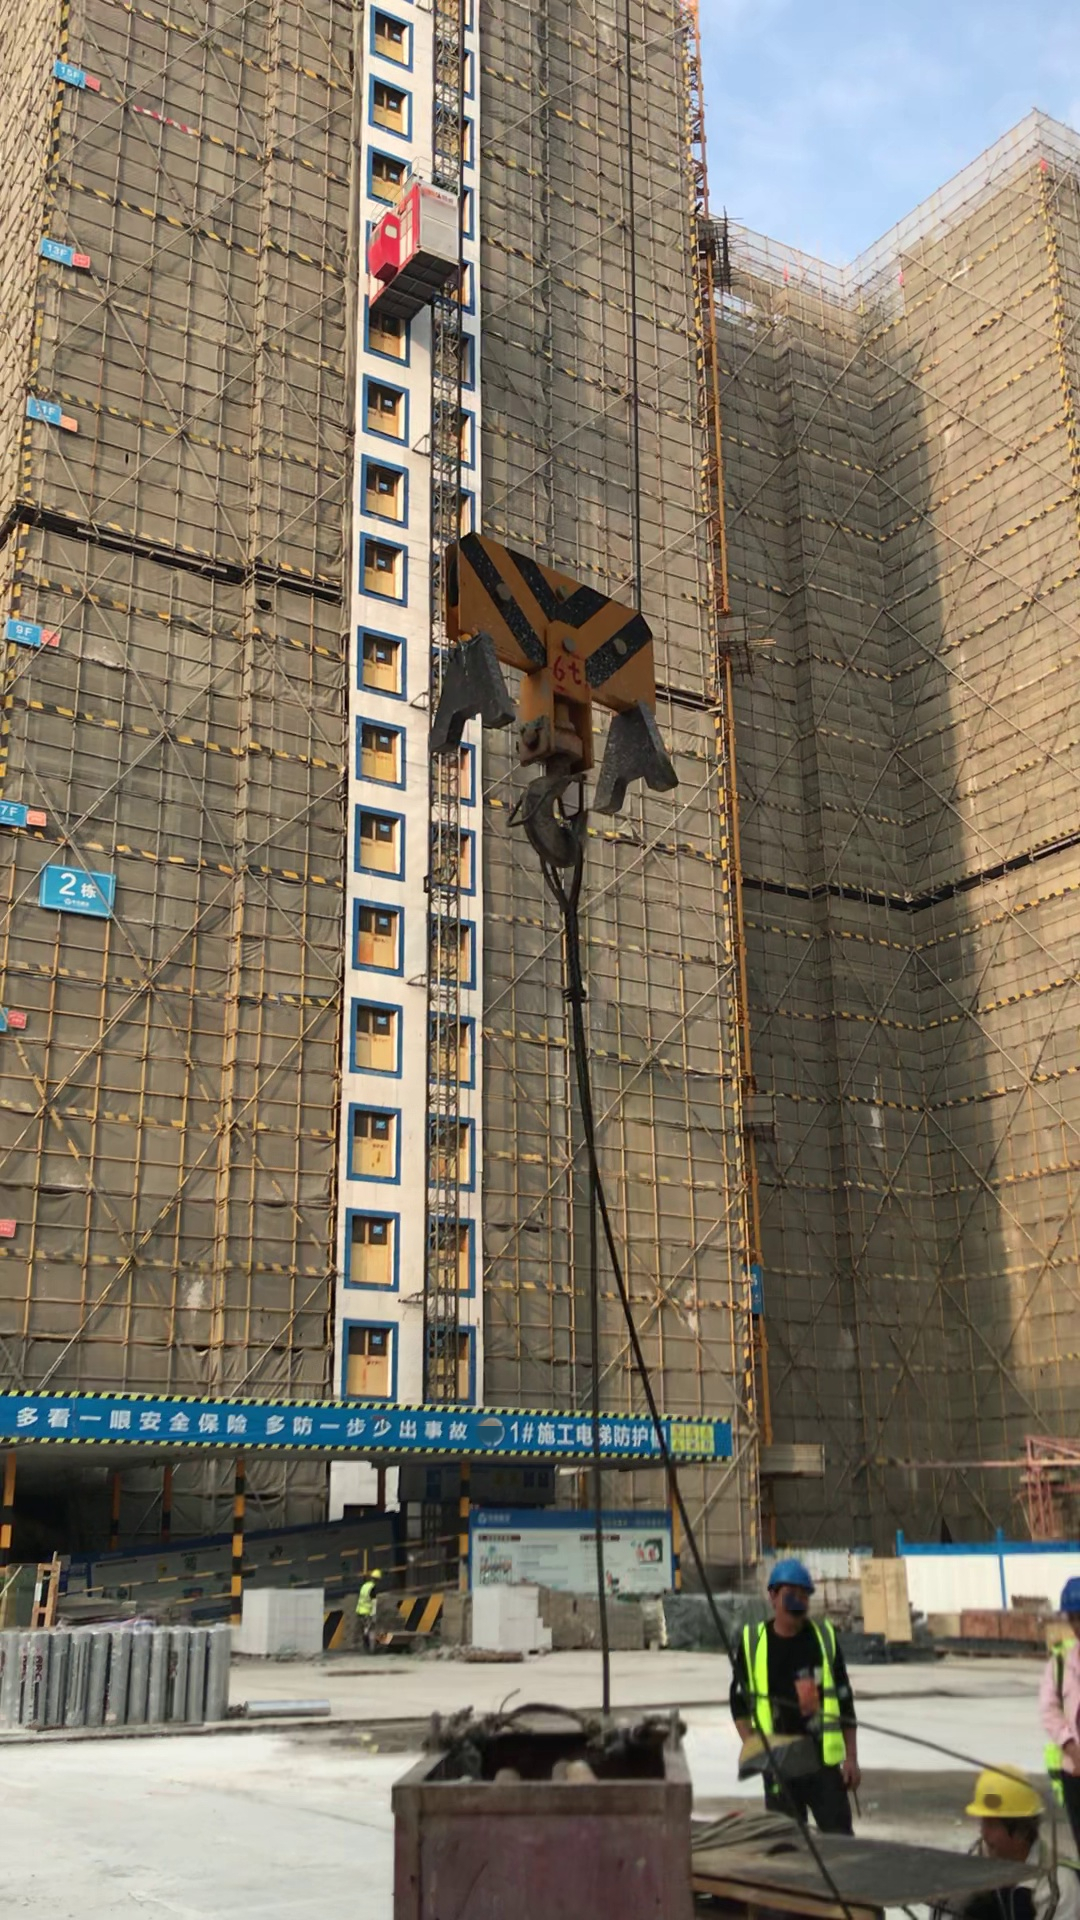brick: (230, 1585, 327, 1658), (470, 1583, 552, 1650)
helmet: (955, 1775, 1043, 1820), (769, 1558, 816, 1590), (1060, 1580, 1080, 1608), (369, 1570, 382, 1579)
hook: (438, 524, 682, 867)
person: (724, 1558, 880, 1838), (931, 1772, 1080, 1918), (1038, 1579, 1080, 1824), (356, 1569, 384, 1655)
slogan: (5, 1389, 730, 1462)
vest: (741, 1613, 845, 1770), (355, 1582, 376, 1615)
